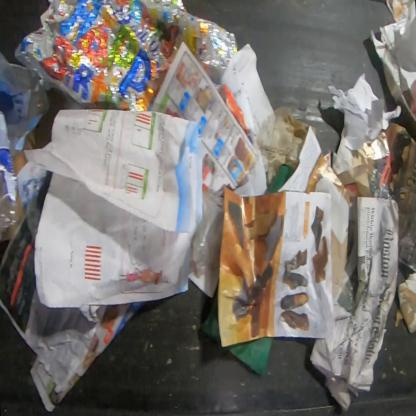cardboard: (224, 335, 274, 379), (394, 271, 415, 335), (198, 293, 219, 344), (264, 164, 295, 194), (13, 150, 28, 176), (23, 130, 38, 150)
soft_plastic: (12, 0, 240, 113), (0, 46, 51, 243), (191, 192, 225, 280)
